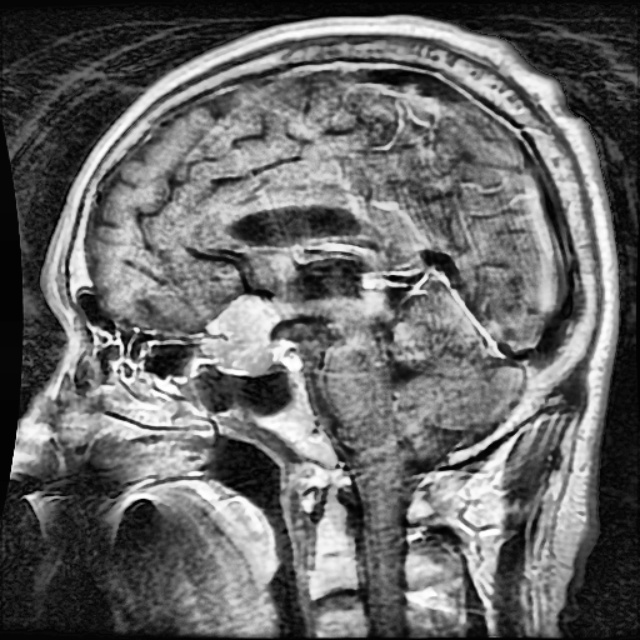Pituitary: (205, 299, 287, 372)
